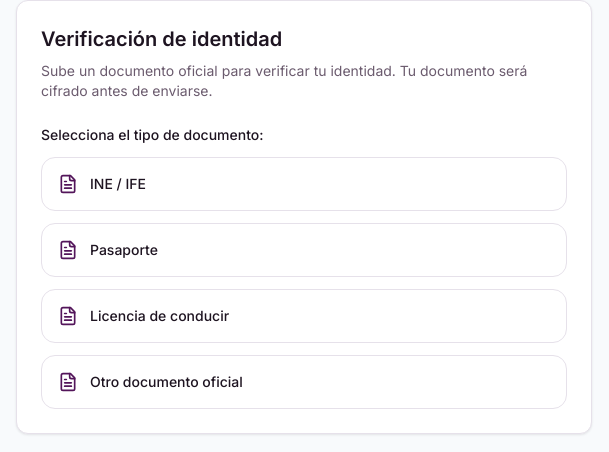
Test: DocumentUploadPage › avanza al paso de selección de archivo al elegir tipo
Click the button "INE / IFE": (118,184) [41, 157, 567, 211]
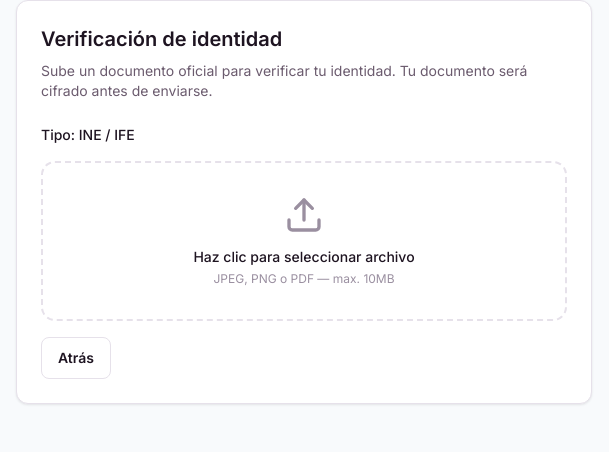
Expected: the text "Haz clic para seleccionar archivo" is shown, [193, 247, 415, 267]
